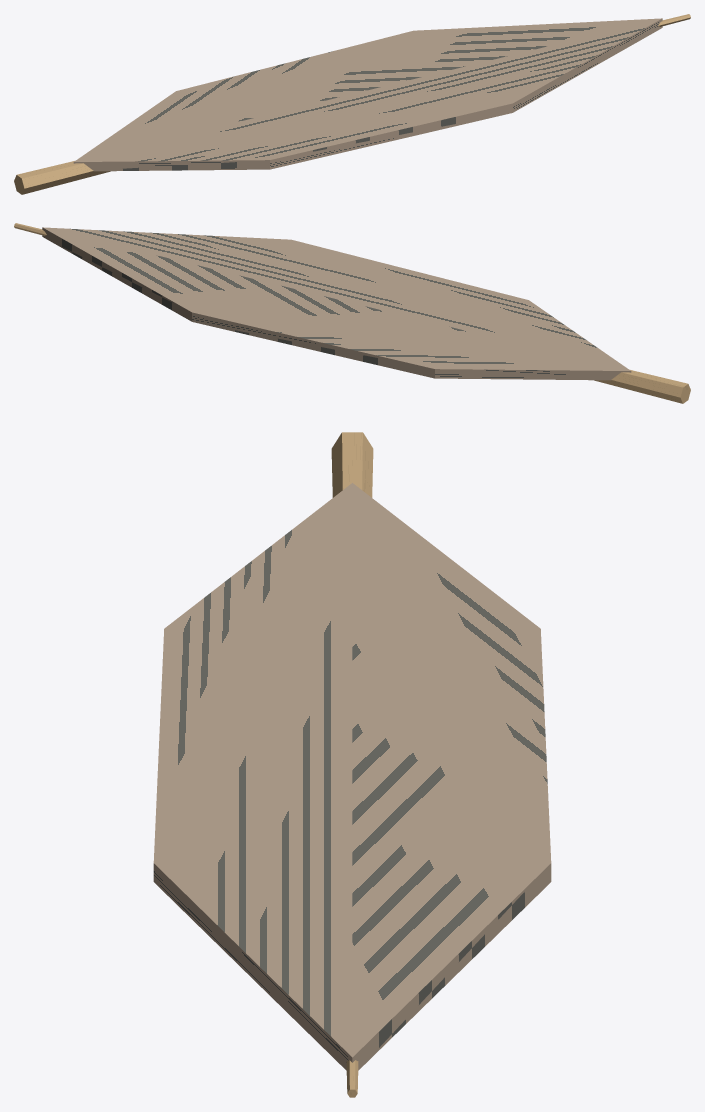
File: feather.glb
3 views of the same model, one above another, from view 1: azimuth 30°, elevation 25°; view 2: azimuth 150°, elevation 25°; view 3: azimuth 270°, elevation 25° (orthographic). The views are drawn at different scales.
Parts seen in each view (by area): view 1: block_vanes 1, block_vanes -1, block_quill; view 2: block_vanes -1, block_vanes 1, block_quill; view 3: block_vanes -1, block_vanes 1, block_quill.
Part boxes in pixels (bbox=[...]): block_vanes 1: bbox=[73, 18, 662, 171]; block_vanes -1: bbox=[74, 18, 661, 161]; block_quill: bbox=[14, 14, 690, 194]; block_vanes -1: bbox=[42, 227, 631, 380]; block_vanes 1: bbox=[43, 227, 630, 370]; block_quill: bbox=[14, 223, 690, 403]; block_vanes -1: bbox=[352, 483, 551, 1070]; block_vanes 1: bbox=[153, 483, 352, 1070]; block_quill: bbox=[331, 432, 373, 1097].
Size of the model in its own units: 0.148 by 0.00373 by 0.038.
1 material, 1 textured.
